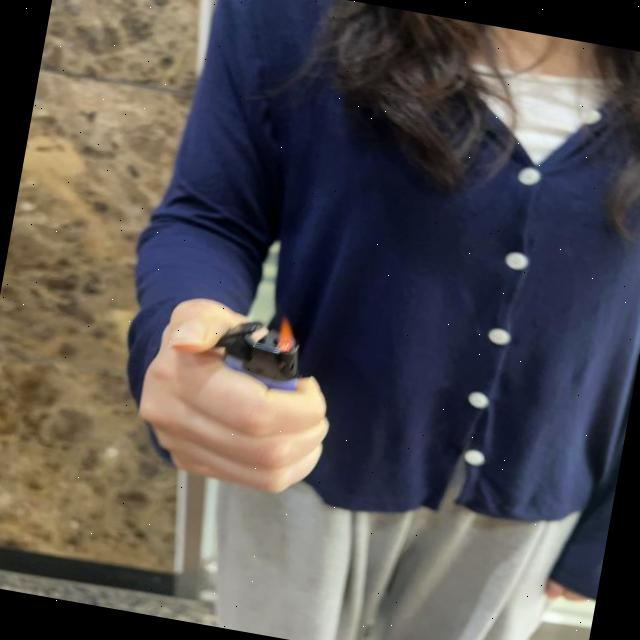fire: (274, 314, 305, 349)
